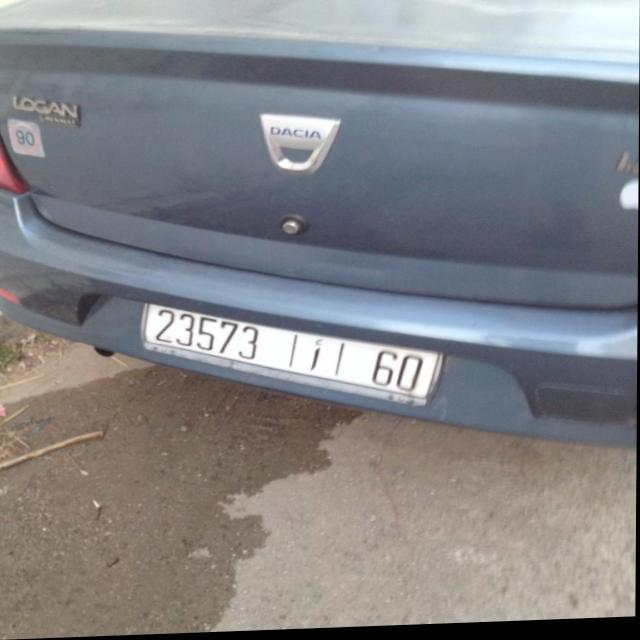License-Plate: (143, 305, 443, 409)
